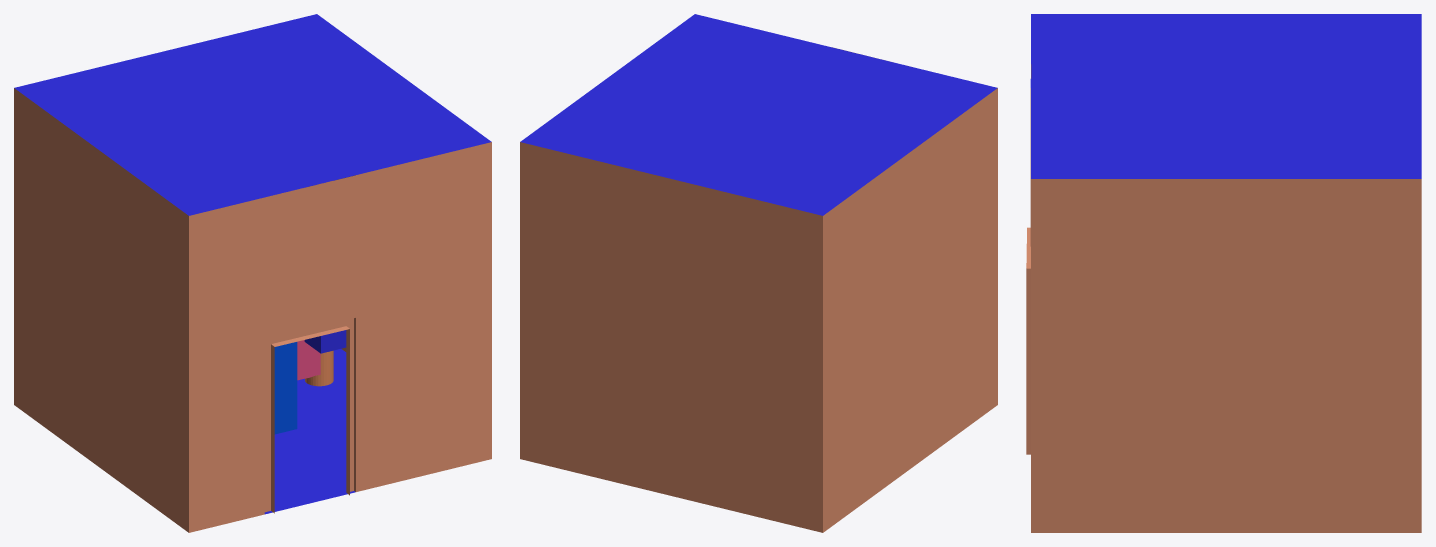
File: Level1_Environment.fbx
The picture shows the model from 3 angles, left to right: view 1: azimuth 30°, elevation 25°; view 2: azimuth 150°, elevation 25°; view 3: azimuth 270°, elevation 25°; orthographic projection. The views are drawn at different scales.
Parts seen in each view (by area): view 1: Raum, Decke, Boden, Quader_hoch, Quader Hochhaus viele Fenster, Fliegende Würfel, Säule mit schrägem ende; view 2: Raum, Decke; view 3: Raum, Decke.
Part boxes in pixels (<box>): Raum: <box>14,88,491,532</box>; Decke: <box>14,14,491,215</box>; Boden: <box>264,349,355,514</box>; Quader_hoch: <box>274,342,297,434</box>; Quader Hochhaus viele Fenster: <box>297,340,320,380</box>; Fliegende Würfel: <box>304,330,346,353</box>; Säule mit schrägem ende: <box>305,181,333,386</box>; Raum: <box>520,47,997,532</box>; Decke: <box>520,14,997,215</box>; Raum: <box>1026,64,1421,532</box>; Decke: <box>1030,14,1421,178</box>.
Bounding box in the file's own units: 400 × 400 × 405.
